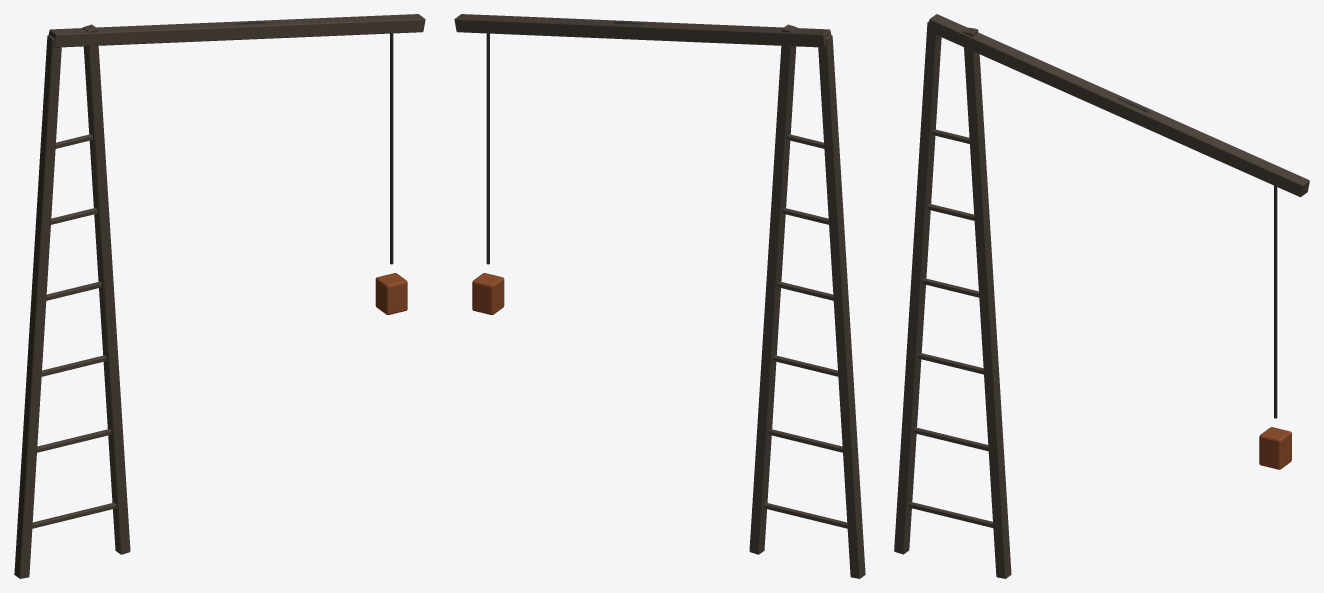
The model's file is gantry.glb.
The picture shows the model from 3 angles, left to right: view 1: azimuth 30°, elevation 25°; view 2: azimuth 150°, elevation 25°; view 3: azimuth 330°, elevation 25°; orthographic projection.
Visible parts, largest first — view 1: gantry; view 2: gantry; view 3: gantry.
Boxes of the visible parts, x1,y1,x2,y2 form: gantry: [14, 14, 425, 578]; gantry: [454, 14, 865, 578]; gantry: [894, 14, 1309, 578].
Bounding box in the file's own units: 6.43 × 8.14 × 0.34.
